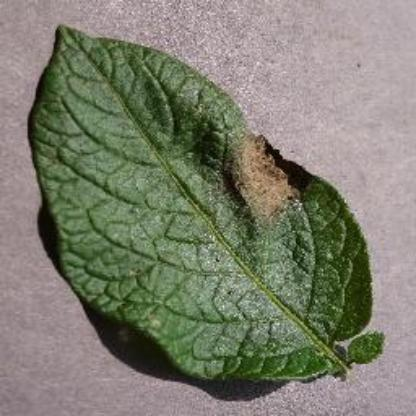Late-Blight: (26, 17, 392, 397)
